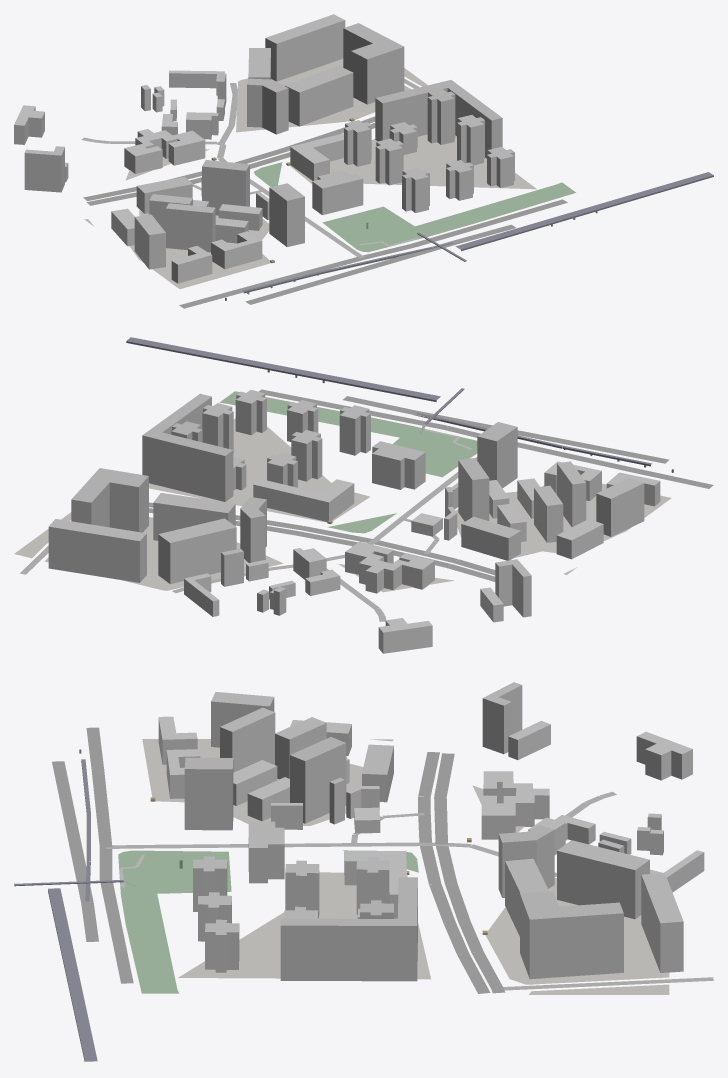
3 renders of one model, top to bottom at view 1: azimuth 30°, elevation 25°; view 2: azimuth 150°, elevation 25°; view 3: azimuth 270°, elevation 25°, orthographic. The views are drawn at different scales.
Size of the model in its own units: 668 by 59.25 by 581.
